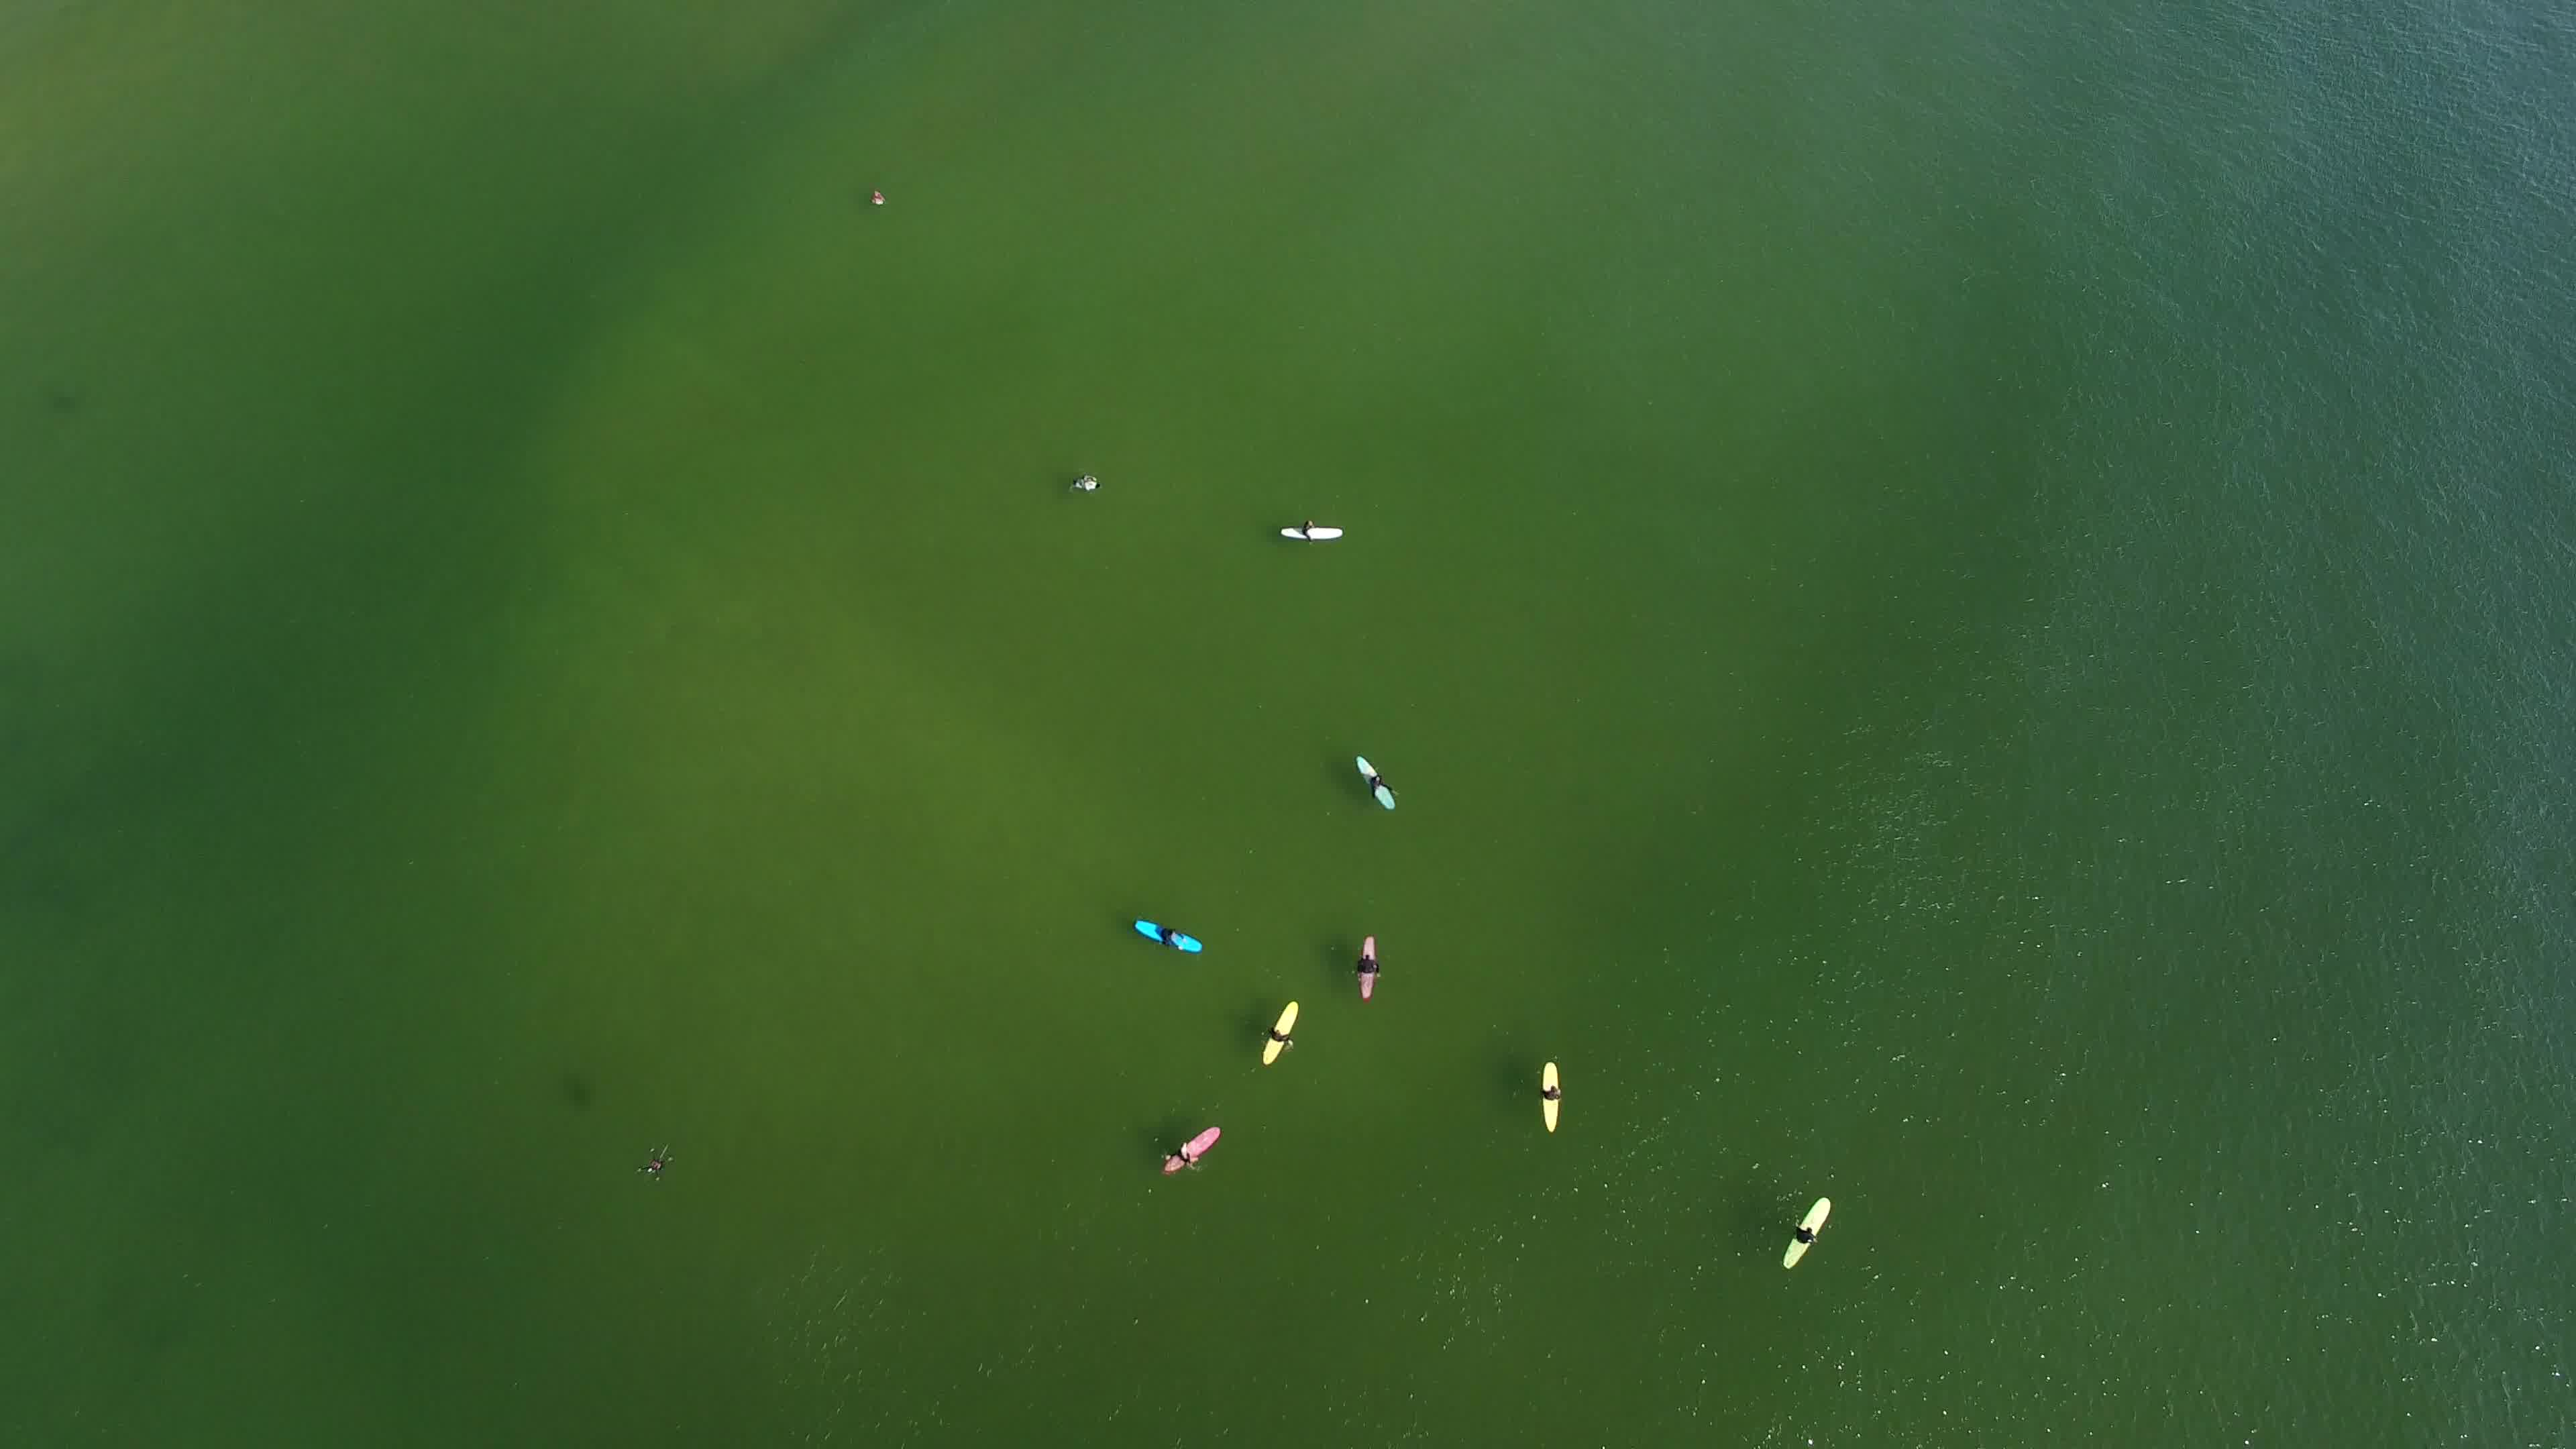surfer: (1769, 1192, 1844, 1277), (1244, 996, 1309, 1074), (1123, 909, 1207, 968), (1338, 750, 1410, 816), (1523, 1053, 1573, 1143), (1152, 1120, 1226, 1175), (1352, 922, 1391, 1007), (1277, 511, 1353, 548), (862, 184, 893, 214), (1069, 471, 1100, 499)
